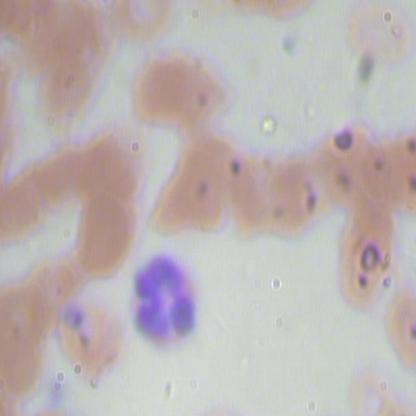RBC: (133, 49, 230, 134), (336, 207, 397, 316), (75, 193, 139, 275)
WBC: (123, 250, 204, 354)
